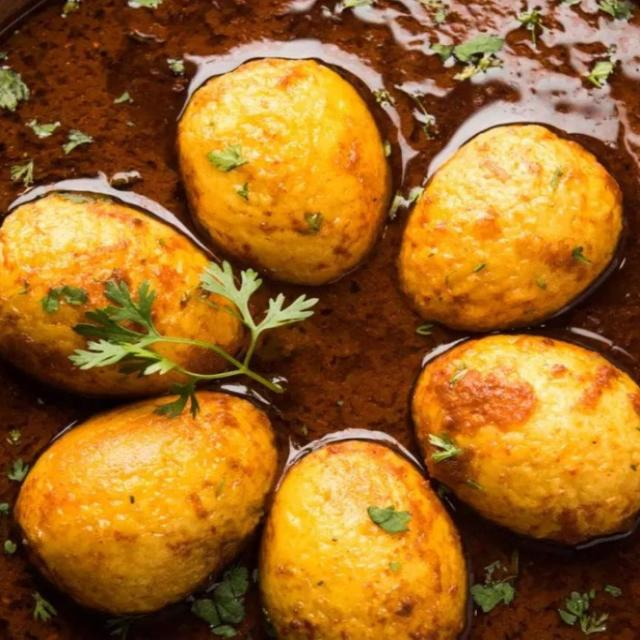EGG: (0, 45, 636, 637)
